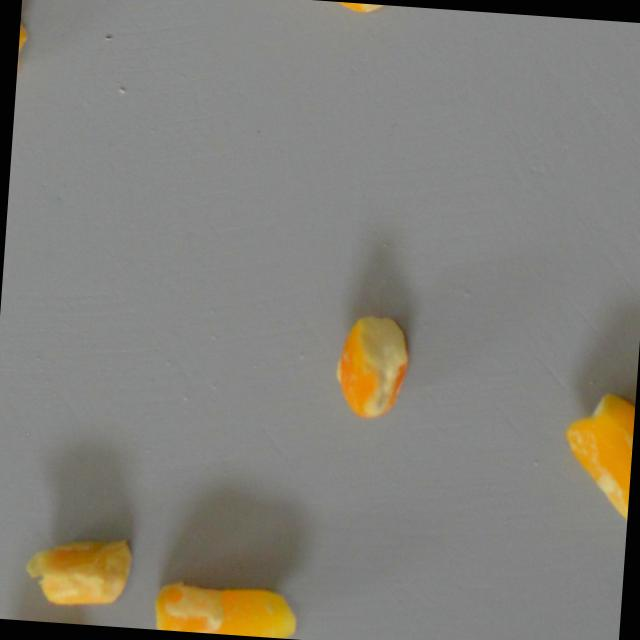dañado: (554, 385, 636, 539), (320, 304, 421, 425), (147, 569, 304, 639), (17, 525, 137, 609), (268, 0, 400, 15), (16, 0, 36, 80)
